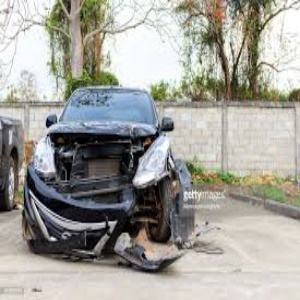bumper: (33, 173, 169, 269)
